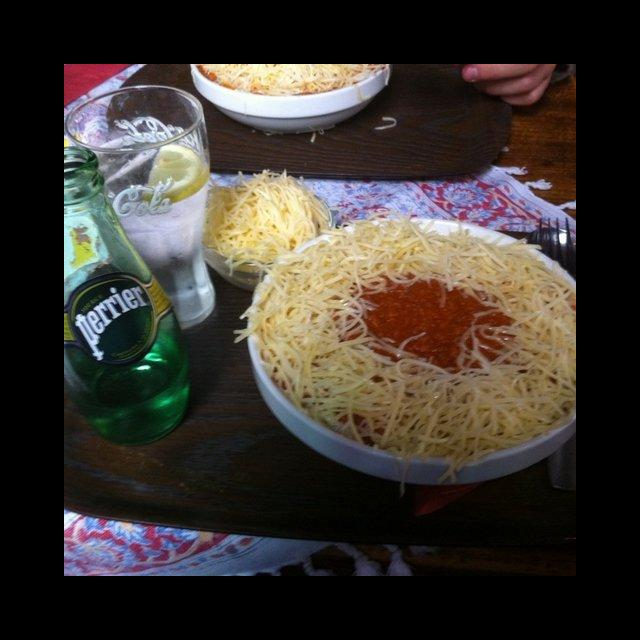noodles: (250, 222, 576, 455), (205, 170, 334, 263), (191, 64, 388, 97)
